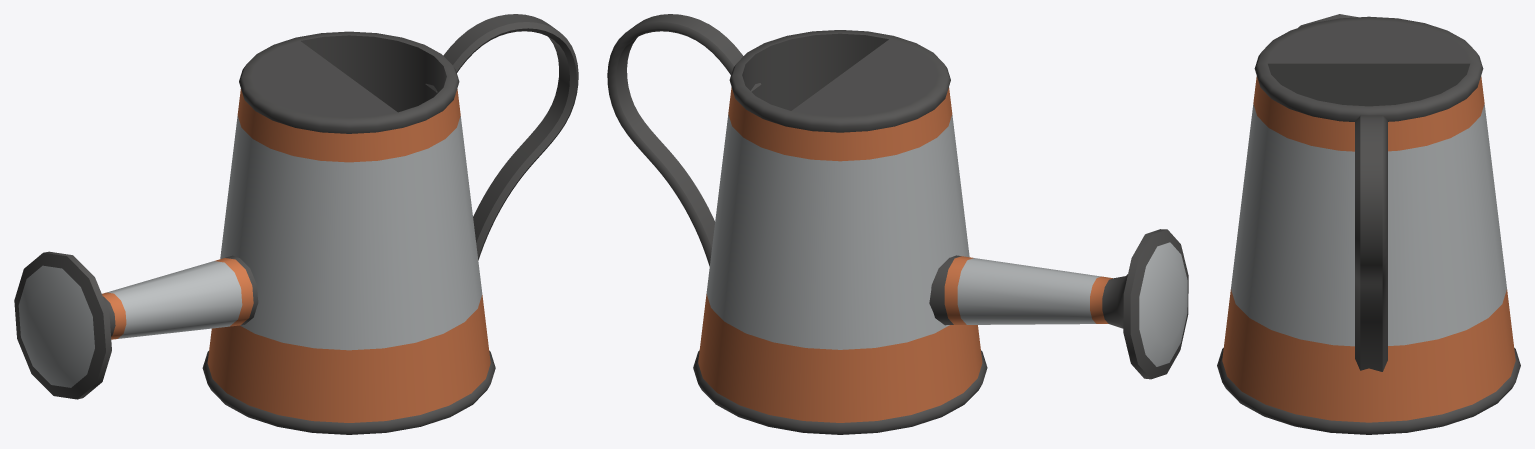
Rendered from wateringcan.fbx.
3 renders of one model, left to right at view 1: azimuth 30°, elevation 25°; view 2: azimuth 150°, elevation 25°; view 3: azimuth 270°, elevation 25°, orthographic. The views are drawn at different scales.
Visible parts, largest first — view 1: wateringcan; view 2: wateringcan; view 3: wateringcan.
Boxes of the visible parts, left/top/right/bottom form: wateringcan: left=14, top=14, right=578, bottom=434; wateringcan: left=607, top=14, right=1188, bottom=434; wateringcan: left=1217, top=14, right=1520, bottom=434.
Size of the model in its own units: 62.3 by 34.61 by 29.14.
